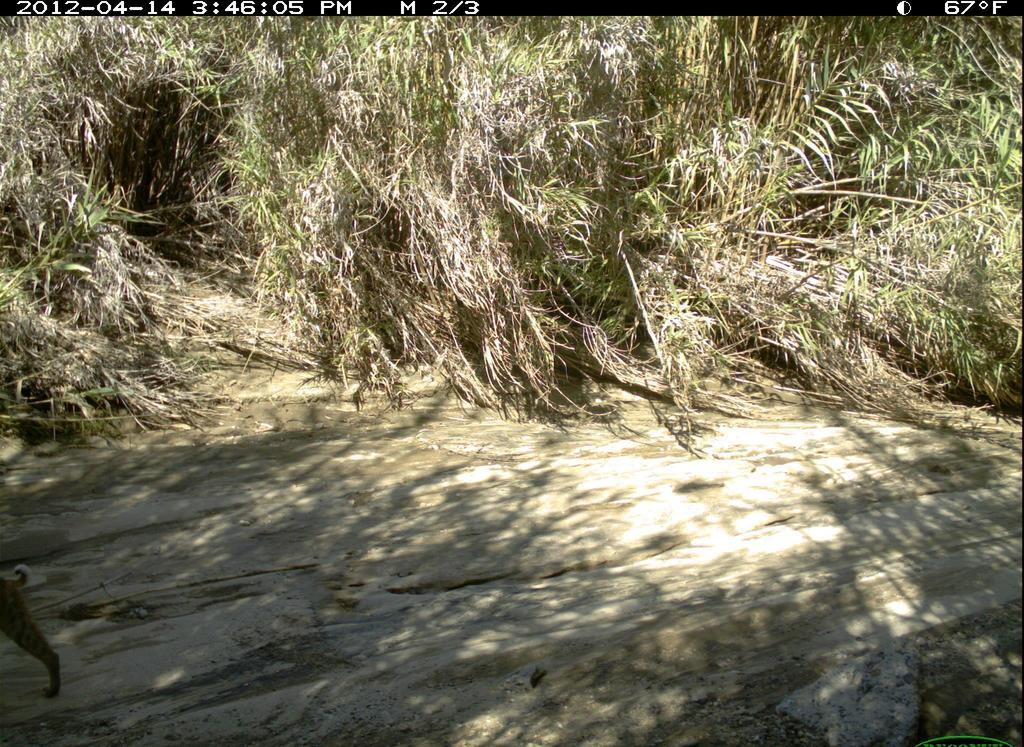bobcat: (2, 559, 77, 708)
